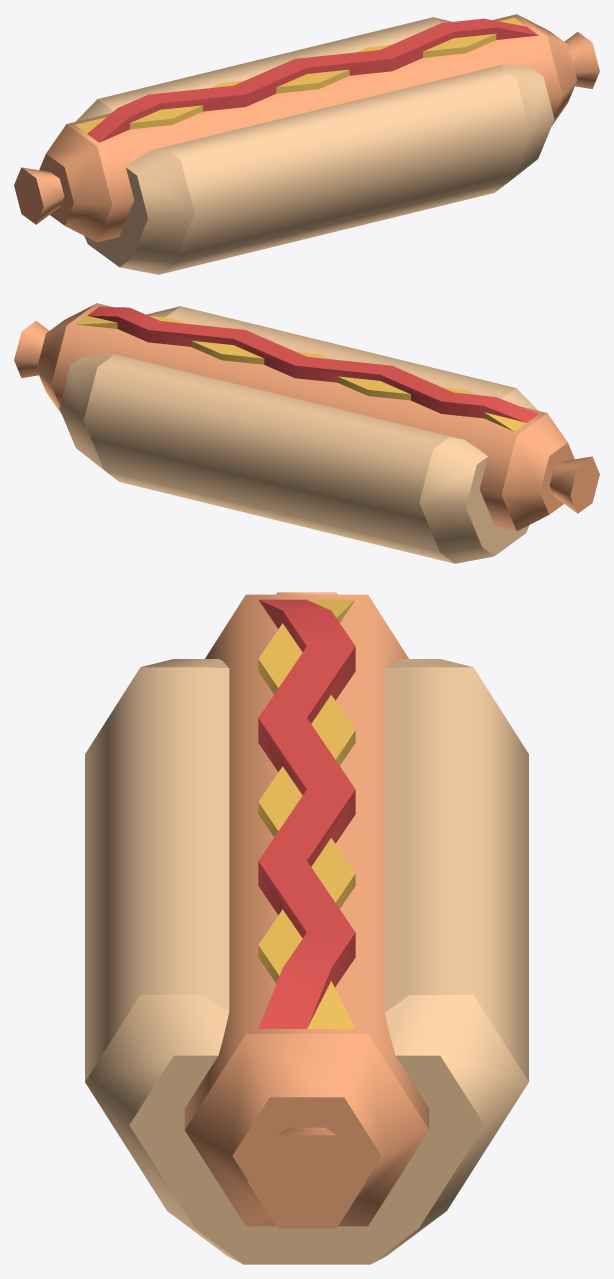
File: hotDog.obj
The picture shows the model from 3 angles, top to bottom: view 1: azimuth 30°, elevation 25°; view 2: azimuth 150°, elevation 25°; view 3: azimuth 270°, elevation 25°; orthographic projection. The views are drawn at different scales.
Parts seen in each view (by area): view 1: hotDog, sausage, sauce; view 2: hotDog, sausage, sauce; view 3: hotDog, sausage, sauce.
Part boxes in pixels (x1,y1,x2,y2): hotDog: (75,17,554,274); sausage: (14,14,599,242); sauce: (75,18,538,142); hotDog: (59,306,538,563); sausage: (14,303,599,531); sauce: (75,306,538,431); hotDog: (85,659,528,1264); sausage: (184,592,429,1228); sauce: (258,599,355,1028).
Size of the model in its own units: 0.5859 by 0.1525 by 0.2026.
